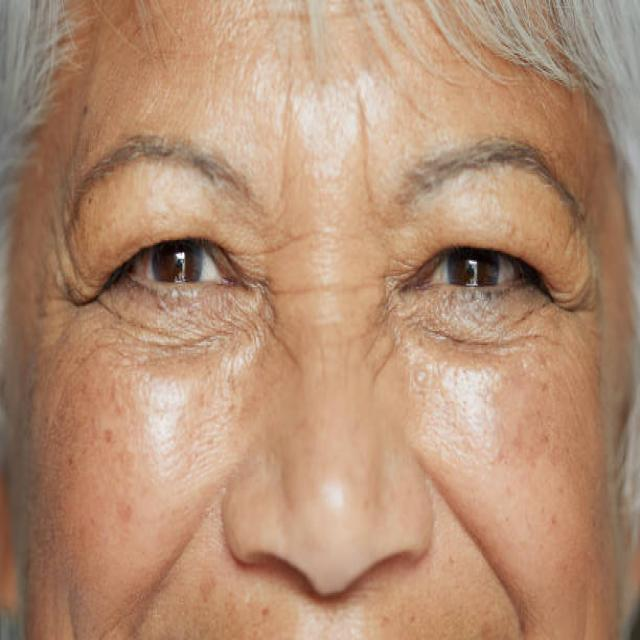dry: (21, 298, 270, 588), (408, 309, 619, 599), (209, 14, 427, 251)
